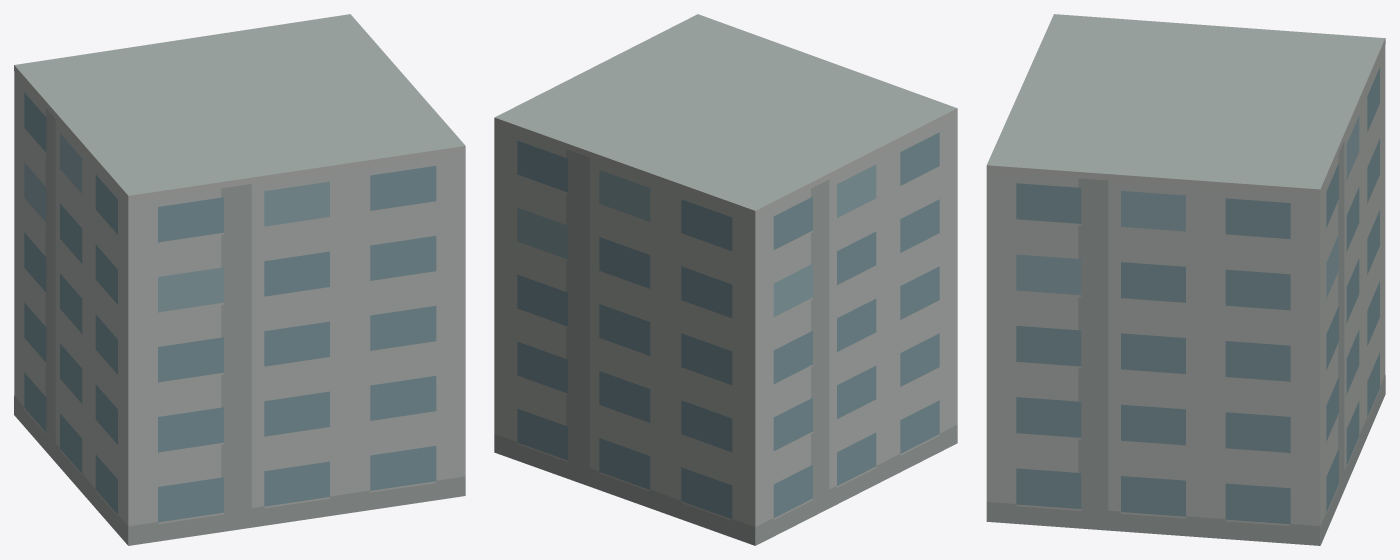
The model's file is survey-upis-33041192.glb.
3 renders of one model, left to right at view 1: azimuth 30°, elevation 25°; view 2: azimuth 150°, elevation 25°; view 3: azimuth 270°, elevation 25°, orthographic. The views are drawn at different scales.
Parts seen in each view (by area): view 1: survey-upis-33041192.tmp; view 2: survey-upis-33041192.tmp; view 3: survey-upis-33041192.tmp.
Part boxes in pixels (box(x1,y1,x2,y2)): survey-upis-33041192.tmp: box(14, 14, 465, 545); survey-upis-33041192.tmp: box(494, 14, 957, 545); survey-upis-33041192.tmp: box(986, 14, 1385, 545).
Size of the model in its own units: 14.31 by 13.55 by 13.75.
